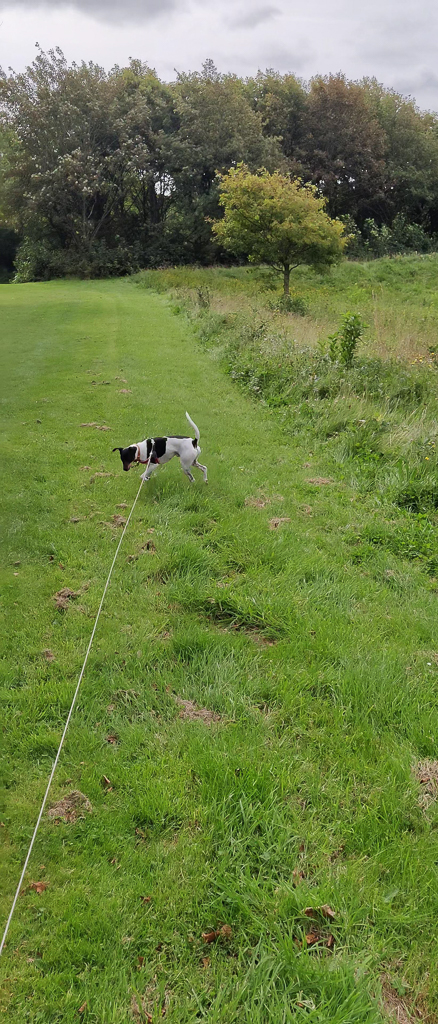Dog: (105, 405, 215, 492)
